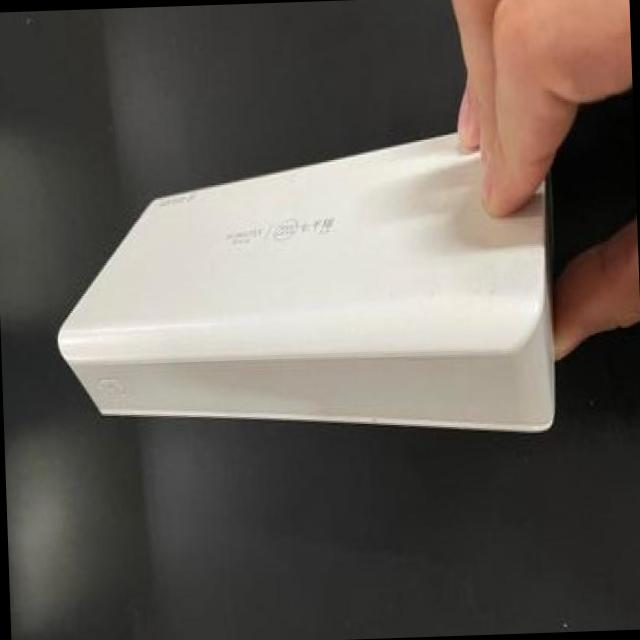portable-charger: (37, 91, 566, 452)
